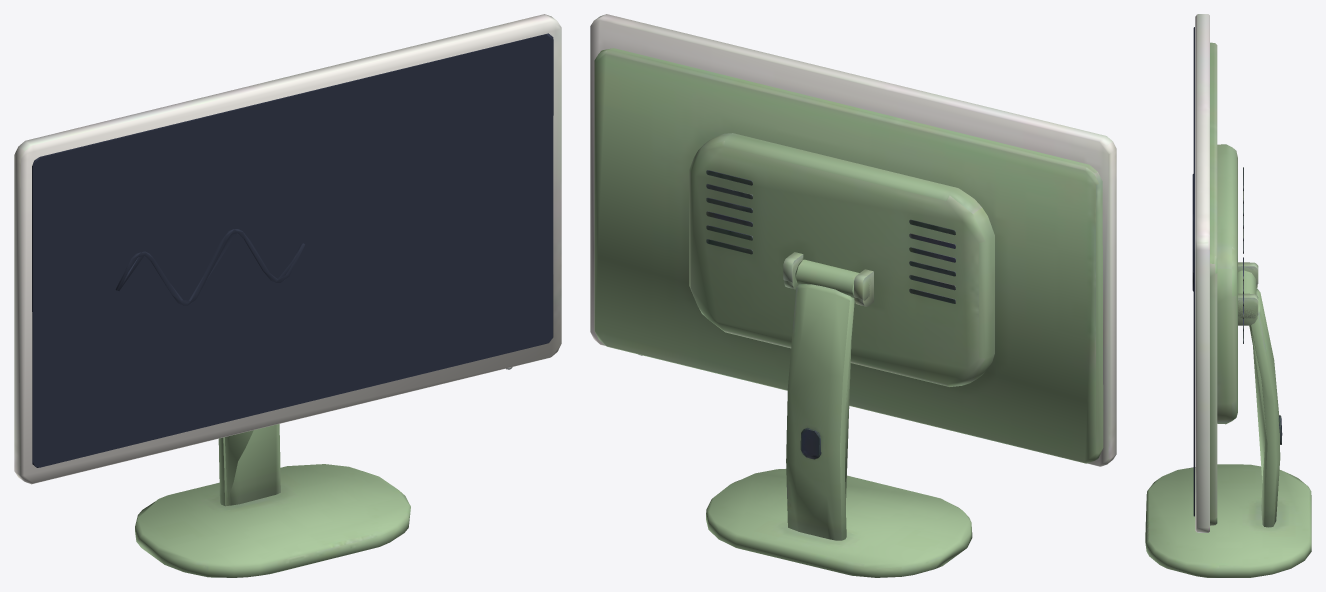
File: g3d_computer_monitor.glb
3 renders of one model, left to right at view 1: azimuth 30°, elevation 25°; view 2: azimuth 150°, elevation 25°; view 3: azimuth 270°, elevation 25°, orthographic. The views are drawn at different scales.
Parts seen in each view (by area): view 1: computer-monitor_screen_glass, computer-monitor_screen_glass_lo, computer-monitor_tilt, computer-monitor_body, computer-monitor_body_lo; view 2: computer-monitor_tilt, computer-monitor_body, computer-monitor_body_lo; view 3: computer-monitor_body, computer-monitor_tilt, computer-monitor_body_lo, computer-monitor_screen_glass, computer-monitor_screen_glass_lo.
Boxes of the visible parts, x1,y1,x2,y2 form: computer-monitor_screen_glass: (32, 34, 553, 467); computer-monitor_screen_glass_lo: (32, 33, 553, 466); computer-monitor_tilt: (14, 14, 561, 484); computer-monitor_body: (135, 424, 410, 577); computer-monitor_body_lo: (208, 430, 253, 577); computer-monitor_tilt: (590, 14, 1116, 466); computer-monitor_body: (706, 260, 972, 577); computer-monitor_body_lo: (796, 259, 859, 505); computer-monitor_body: (1145, 270, 1311, 577); computer-monitor_tilt: (1195, 14, 1258, 532); computer-monitor_body_lo: (1238, 270, 1281, 482); computer-monitor_screen_glass: (1192, 27, 1194, 515); computer-monitor_screen_glass_lo: (1192, 27, 1194, 516).
Size of the model in its own units: 0.5539 by 0.4509 by 0.1687.
Materials: 4 (2 with a texture image).
